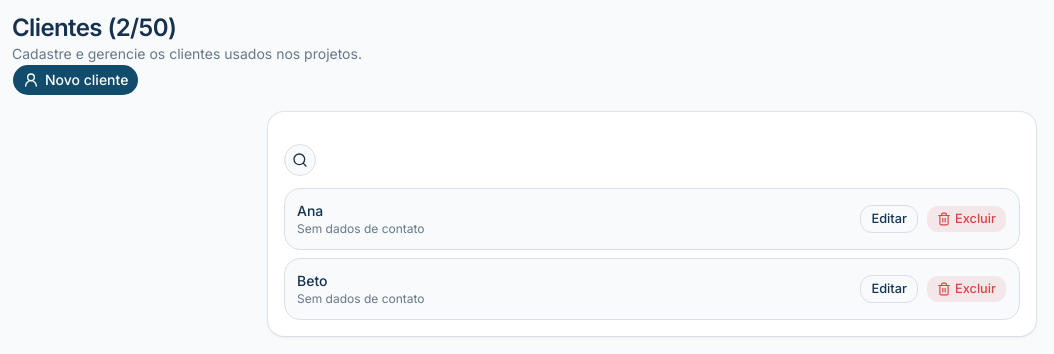
ClientsTab: empty and list states › lists clients and filters them by search
The image size is (1054, 354).
Expected: the text "Ana" is shown, left=297, top=202, right=323, bottom=219
Expected: the text "Beto" is shown, left=297, top=272, right=328, bottom=289
Click the button named "Pesquisar cliente..." at x=300, y=160, box left=284, top=144, right=316, bottom=176
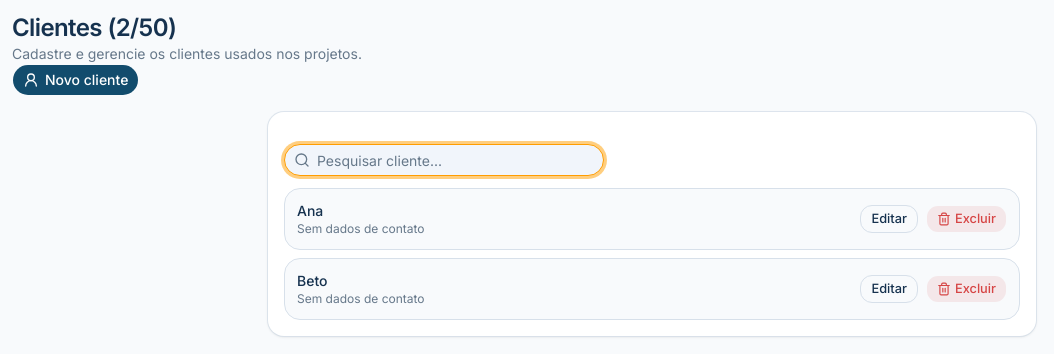
Type "ana" into the field with placeholder "Pesquisar cliente..." at x=444, y=160, box left=284, top=144, right=604, bottom=176
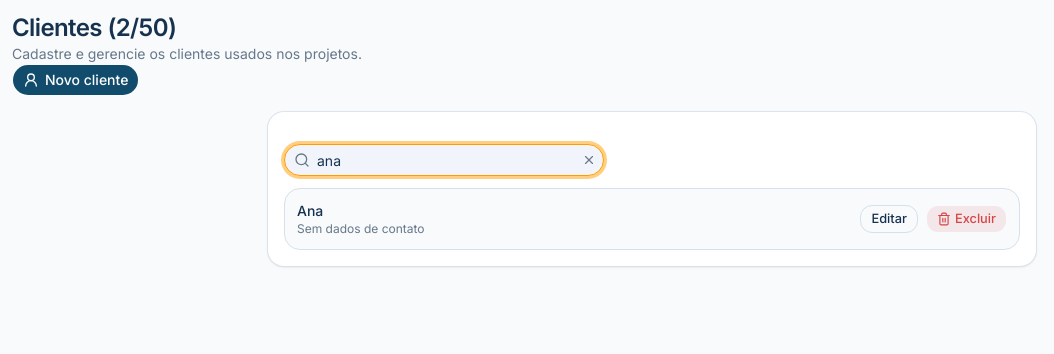
Expected: the text "Ana" is shown, left=297, top=202, right=323, bottom=219
Expected: the text "Beto" is gone
